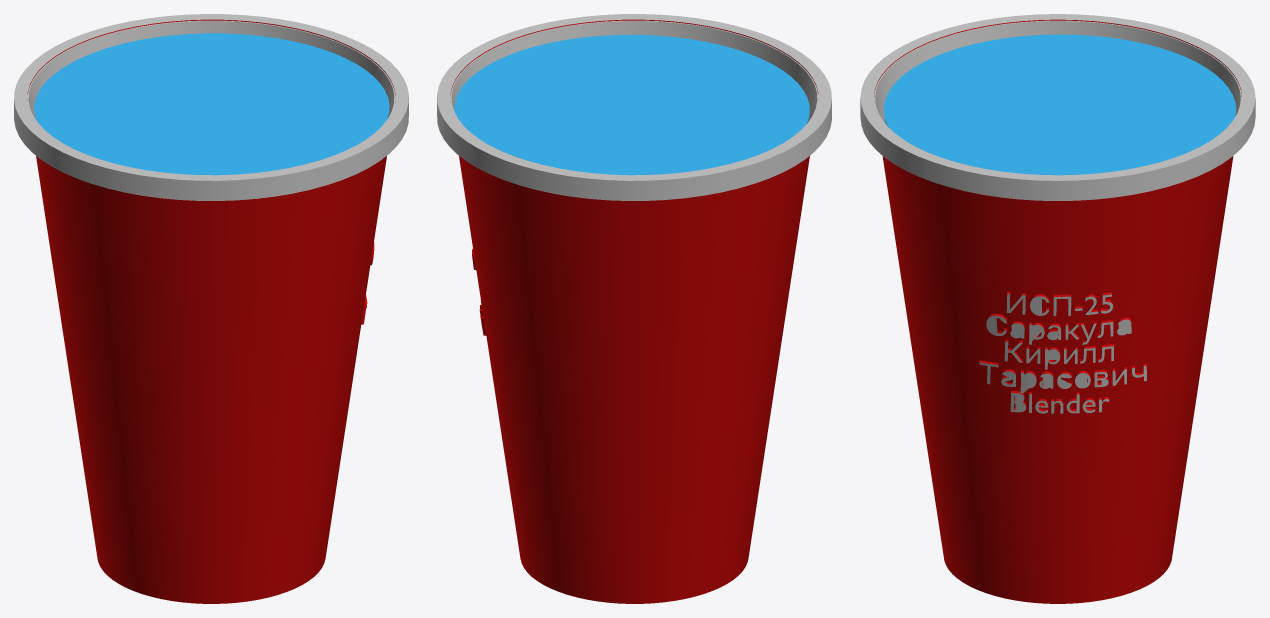
The model's file is Стакан.obj.
3 renders of one model, left to right at view 1: azimuth 30°, elevation 25°; view 2: azimuth 150°, elevation 25°; view 3: azimuth 270°, elevation 25°, orthographic.
Parts seen in each view (by area): view 1: Цилиндр.002, Цилиндр.003; view 2: Цилиндр.002, Цилиндр.003; view 3: Цилиндр.002, Цилиндр.003.
Boxes of the visible parts, <box> form: Цилиндр.002: <box>14,14,408,603</box>; Цилиндр.003: <box>34,33,389,175</box>; Цилиндр.002: <box>437,14,831,603</box>; Цилиндр.003: <box>454,34,809,175</box>; Цилиндр.002: <box>860,14,1255,603</box>; Цилиндр.003: <box>883,34,1236,175</box>.
Size of the model in its own units: 3.86 by 4.94 by 3.86.
